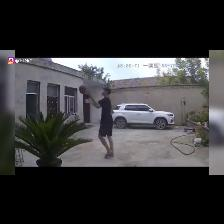person: (85, 86, 113, 157)
